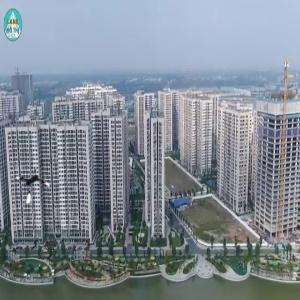drone: (13, 167, 53, 207)
